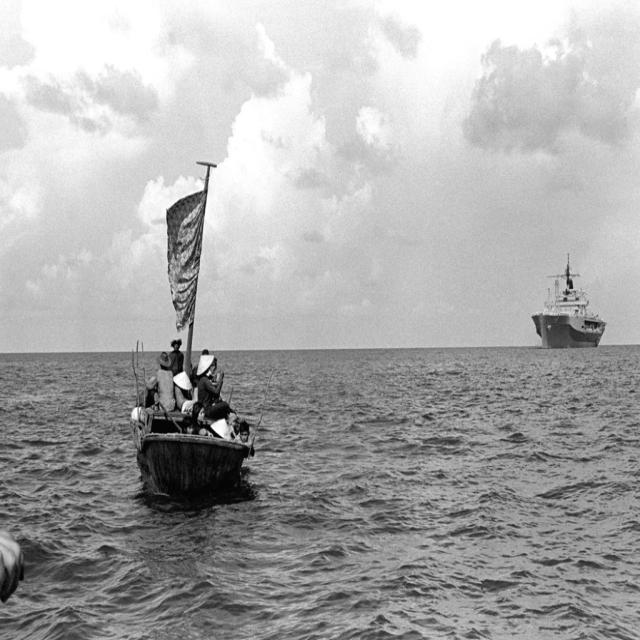Boat: (134, 164, 255, 503), (532, 256, 614, 345)
